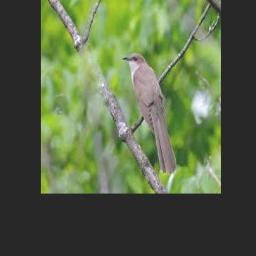Cuckoo: (122, 53, 177, 174)
